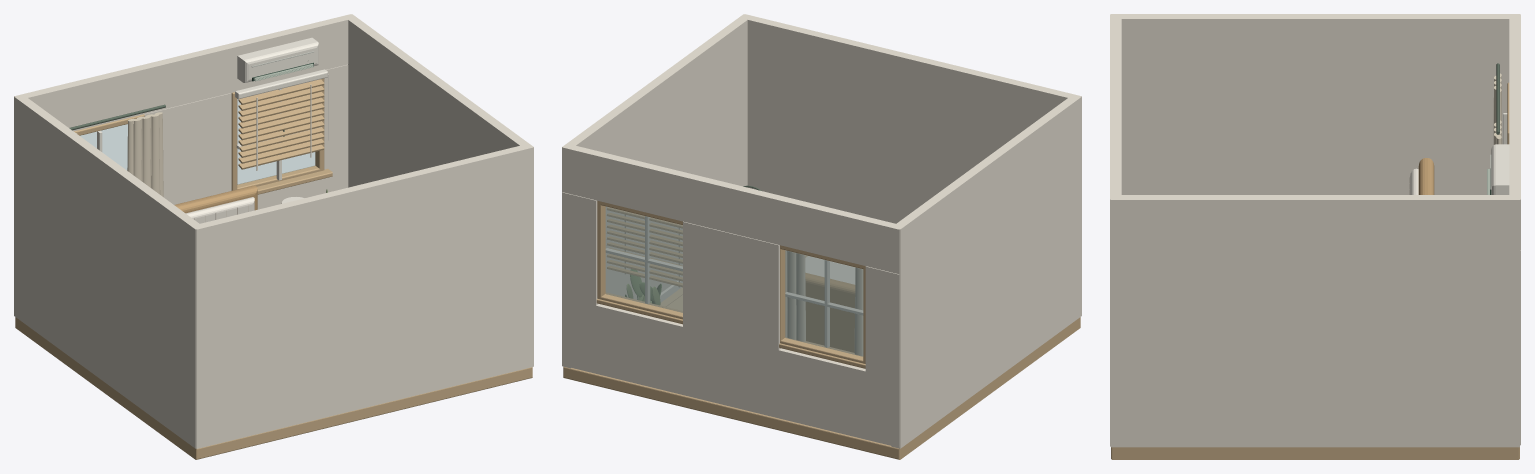
Rendered from room.glb.
3 views of the same model, side by side, from view 1: azimuth 30°, elevation 25°; view 2: azimuth 150°, elevation 25°; view 3: azimuth 270°, elevation 25° (orthographic). The views are drawn at different scales.
Visible parts, largest first — view 1: Front wall, Left wall, Right wall, Back wall over windows, Back wall pier (×2), Timber blind slat (×12), Foundation, Glass (×2), AC housing, Linen curtain fold (×3), Back wall below windows, Upholstered headboard (+5 smaller); view 2: Left wall, Front wall, Back wall below windows, Right wall, Back wall pier (×3), Back wall over windows, Glass (×2), Foundation, Upholstered headboard, Linen curtain fold (×3), Vertical frame (×2), Horizontal frame (×2) (+2 smaller); view 3: Right wall, Left wall, Foundation, Front wall, Back wall over windows, AC housing, Upholstered headboard.
Boxes of the visible parts, x1,y1,x2,y2 form: Front wall: (192, 143, 533, 448); Left wall: (14, 96, 202, 448); Right wall: (344, 14, 533, 365); Back wall over windows: (14, 14, 355, 131); Back wall pier (×2): (144, 64, 348, 204); Timber blind slat (×12): (238, 79, 324, 169); Foundation: (15, 317, 532, 459); Glass (×2): (80, 99, 315, 184); AC housing: (237, 37, 318, 82); Linen curtain fold (×3): (133, 114, 160, 194); Back wall below windows: (257, 170, 348, 209); Upholstered headboard: (174, 185, 257, 213); Left wall: (891, 96, 1081, 448); Front wall: (740, 14, 1081, 223); Back wall below windows: (562, 297, 899, 447); Right wall: (562, 14, 751, 368); Back wall pier (×3): (562, 192, 899, 379); Back wall over windows: (562, 144, 903, 273); Glass (×2): (605, 206, 863, 356); Foundation: (563, 317, 1080, 459); Upholstered headboard: (805, 273, 855, 352); Linen curtain fold (×3): (787, 251, 863, 355); Vertical frame (×2): (597, 200, 785, 340); Horizontal frame (×2): (599, 293, 863, 363); Right wall: (1111, 195, 1519, 447); Left wall: (1111, 14, 1519, 194); Foundation: (1111, 447, 1519, 459); Front wall: (1110, 14, 1121, 446); Back wall over windows: (1509, 14, 1520, 249); AC housing: (1491, 144, 1509, 194); Upholstered headboard: (1418, 158, 1434, 194).
Bounding box in the file's own units: 4.52 × 2.95 × 4.22.
